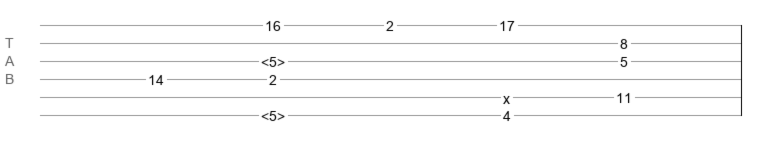11: (616, 90, 632, 100)
14: (148, 72, 164, 82)
16: (265, 18, 281, 28)
17: (499, 18, 515, 28)
2: (269, 72, 277, 82), (386, 18, 394, 28)
4: (503, 108, 511, 118)
5: (620, 54, 628, 64)
8: (620, 36, 628, 46)
harmonic: (261, 108, 285, 118), (261, 54, 285, 64)
x: (503, 91, 510, 99)
